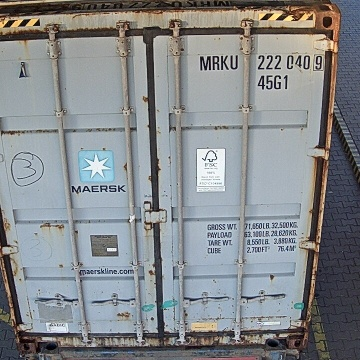serial_id: (200, 54, 324, 70)
